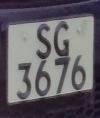3: (15, 57, 35, 104)
6: (70, 53, 89, 95), (34, 61, 54, 99)
7: (53, 56, 72, 97)
G: (52, 17, 73, 62)
S: (33, 19, 54, 64)
